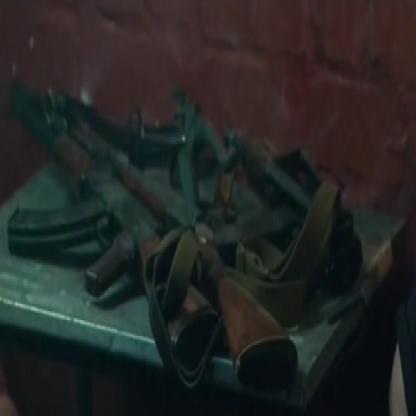Gun: (6, 68, 366, 414)
